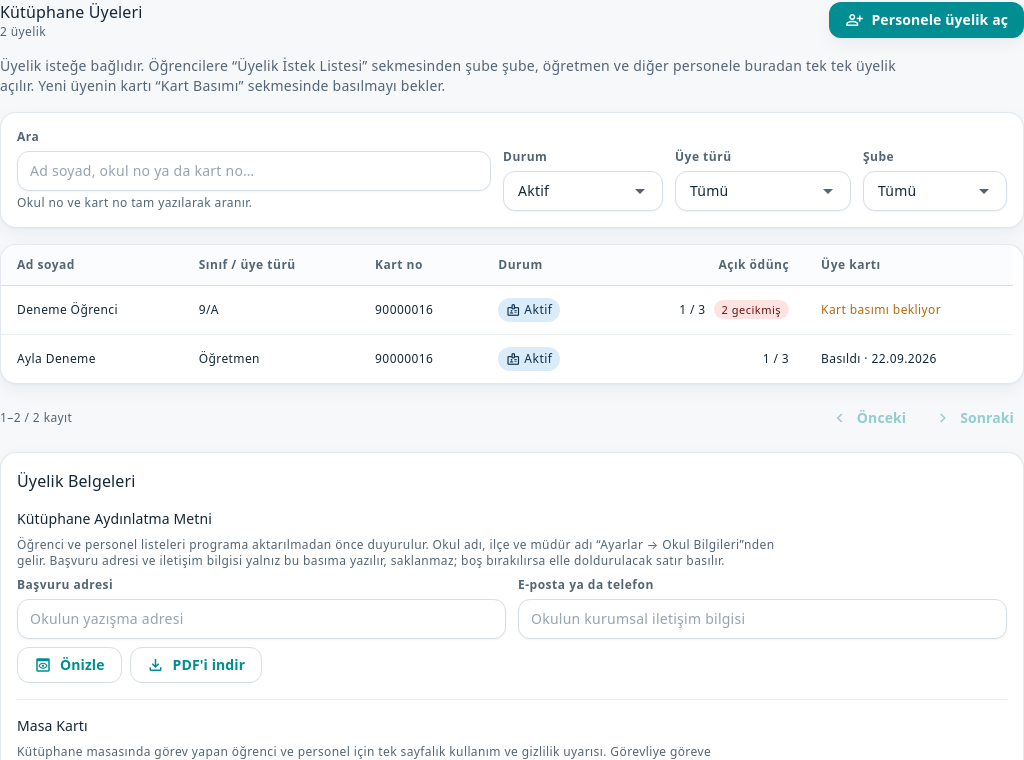
Test: UyelerSekmesi › Kartı yenile onay ister ve onaylanınca yeniler
Click the button with aria-label "Deneme Öğrenci üyeliğini aç" at (507, 310), box [1,286,1013,334]
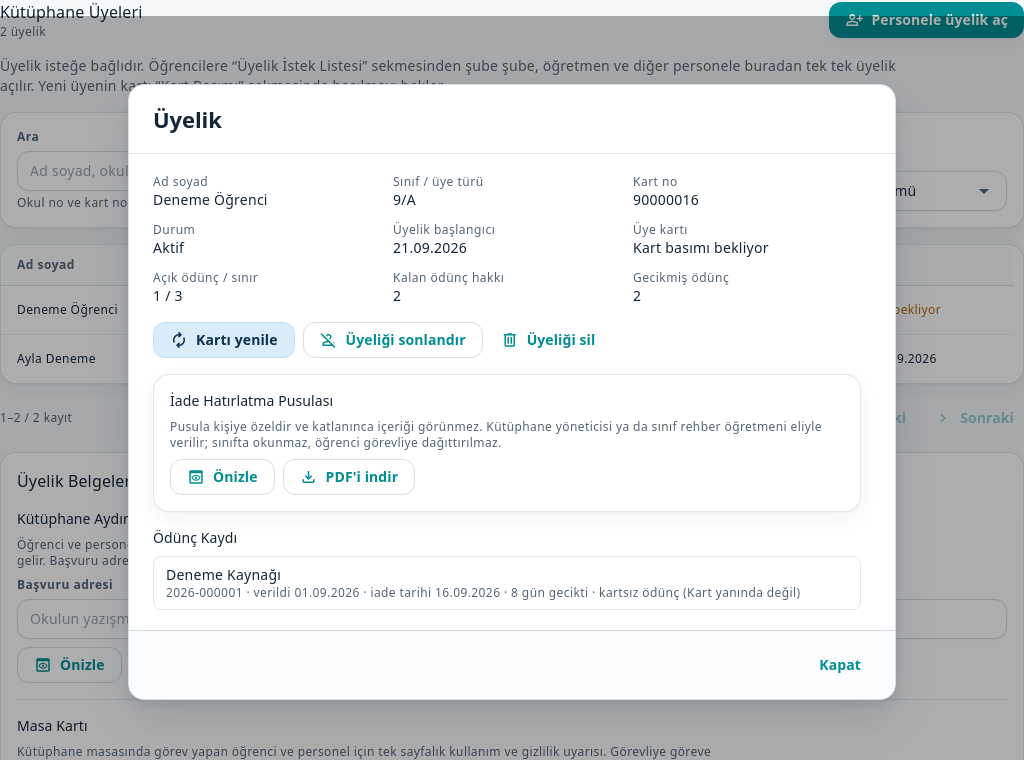
Click the button "Kartı yenile" at (224, 340), box [153,322,294,358]
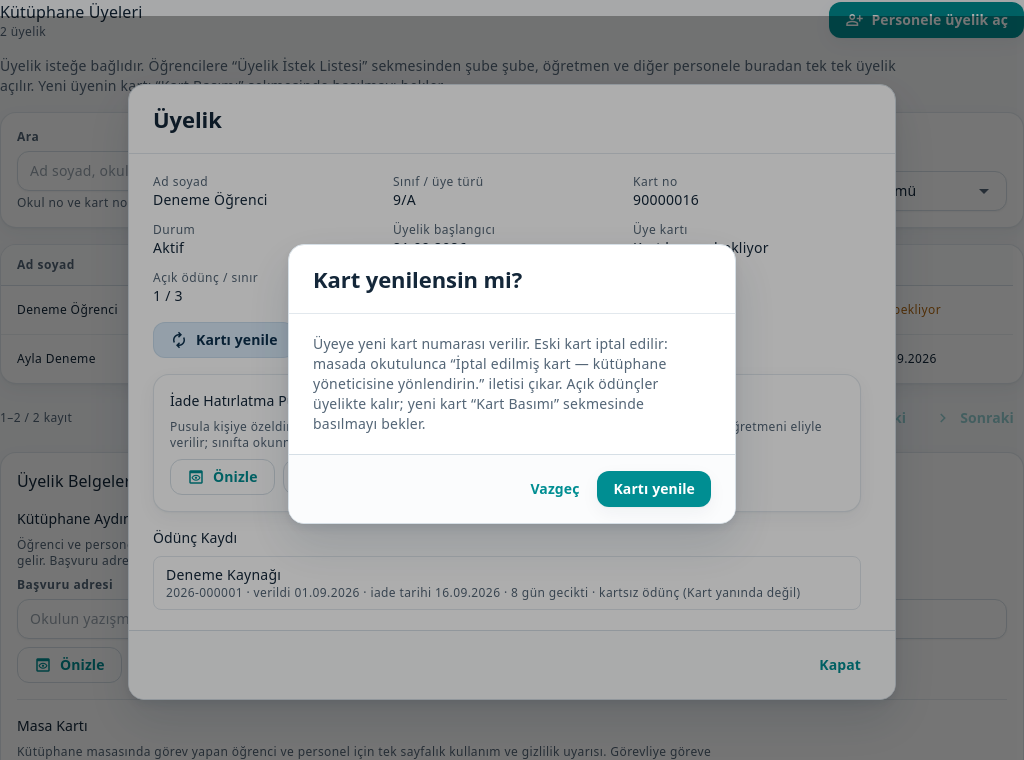
Expected: the dialog "Kart yenilensin mi?" shows "İptal edilmiş kart", [313,334,668,433]
Click the button "Kartı yenile" at (654, 489), box [598,471,711,507]
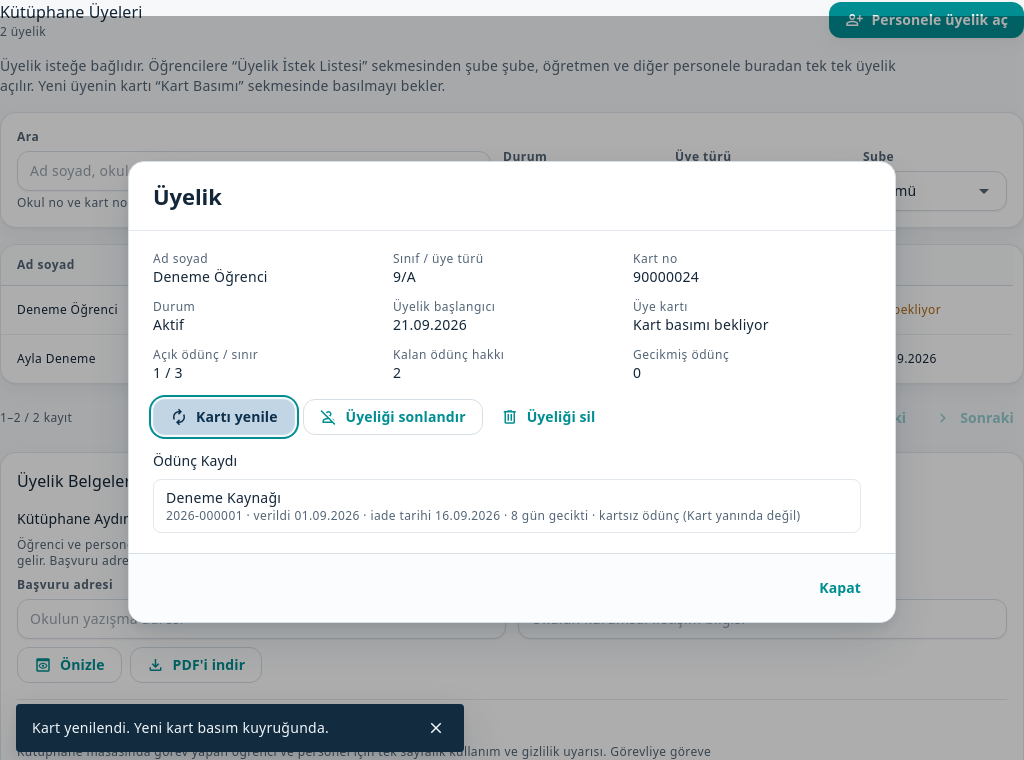
Expected: the text "Kart yenilendi. Yeni kart basım kuyruğunda." is shown, [32,718,329,737]
